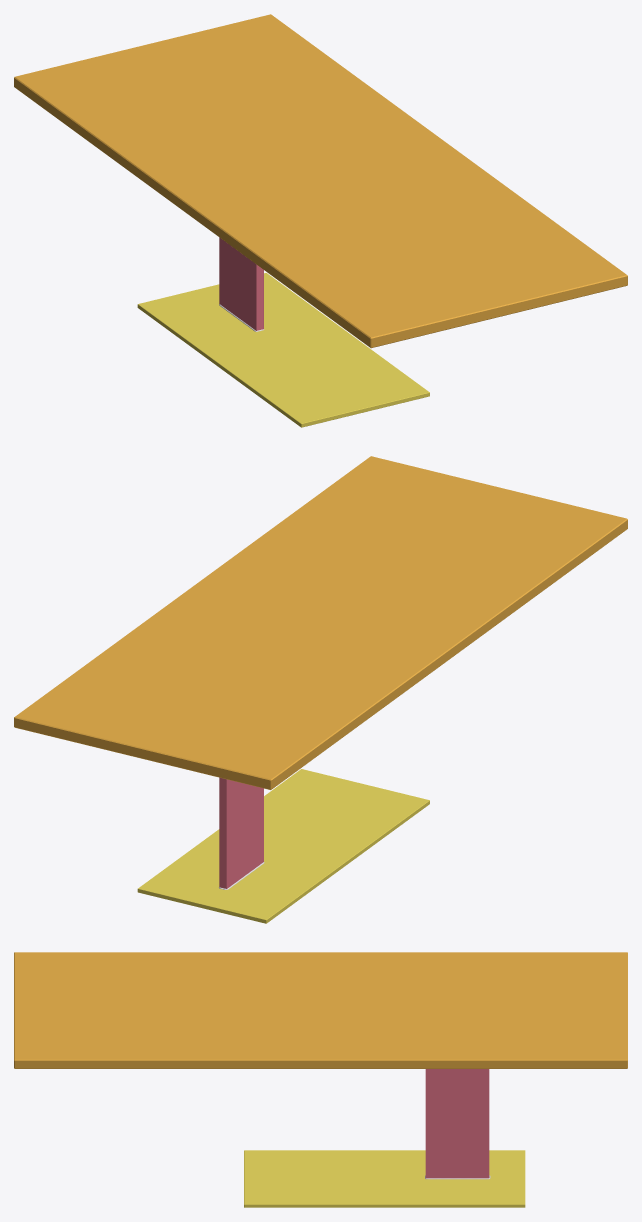
File: Chicken02.glb
3 views of the same model, one above another, from view 1: azimuth 30°, elevation 25°; view 2: azimuth 150°, elevation 25°; view 3: azimuth 270°, elevation 25° (orthographic). The views are drawn at different scales.
Parts seen in each view (by area): view 1: Würfel.3, Würfel, Würfel.1; view 2: Würfel.3, Würfel, Würfel.1; view 3: Würfel.3, Würfel, Würfel.1.
Boxes of the visible parts, x1,y1,x2,y2 form: Würfel.3: (14,14,627,348); Würfel: (137,273,429,427); Würfel.1: (219,237,263,330); Würfel.3: (14,456,627,789); Würfel: (137,769,429,923); Würfel.1: (219,777,263,888); Würfel.3: (14,952,627,1068); Würfel: (244,1150,525,1207); Würfel.1: (425,1069,489,1178).
Size of the model in its own units: 1 by 0.7545 by 2.4.
